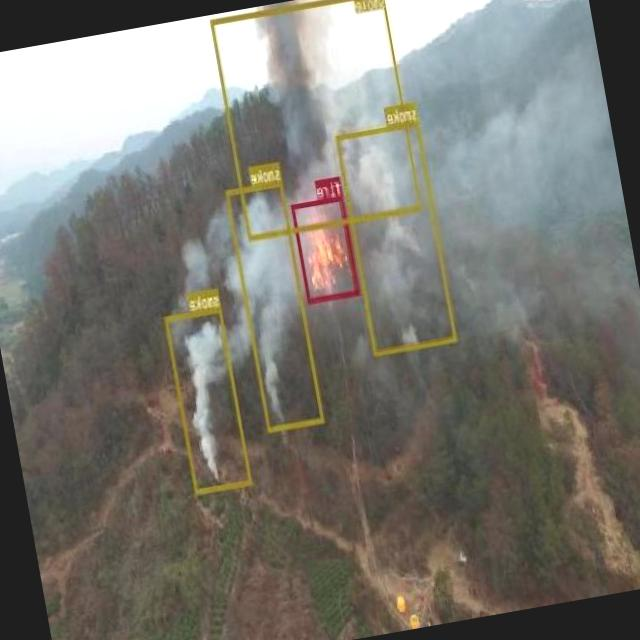fire: (290, 193, 362, 303)
smoke: (210, 0, 423, 238), (336, 120, 458, 353), (225, 180, 325, 430), (164, 306, 252, 494)
